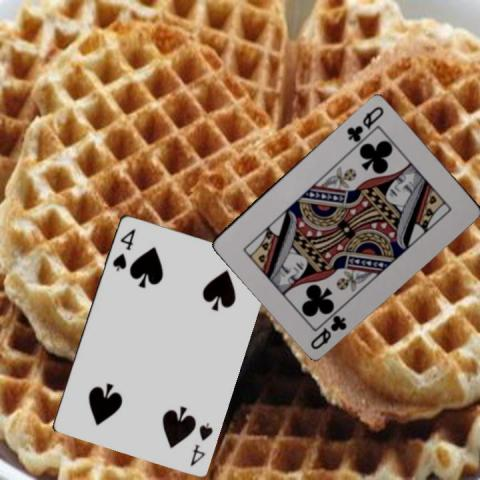4s: (109, 224, 137, 272), (187, 419, 214, 467)
Qc: (344, 103, 386, 143), (307, 311, 348, 351)
